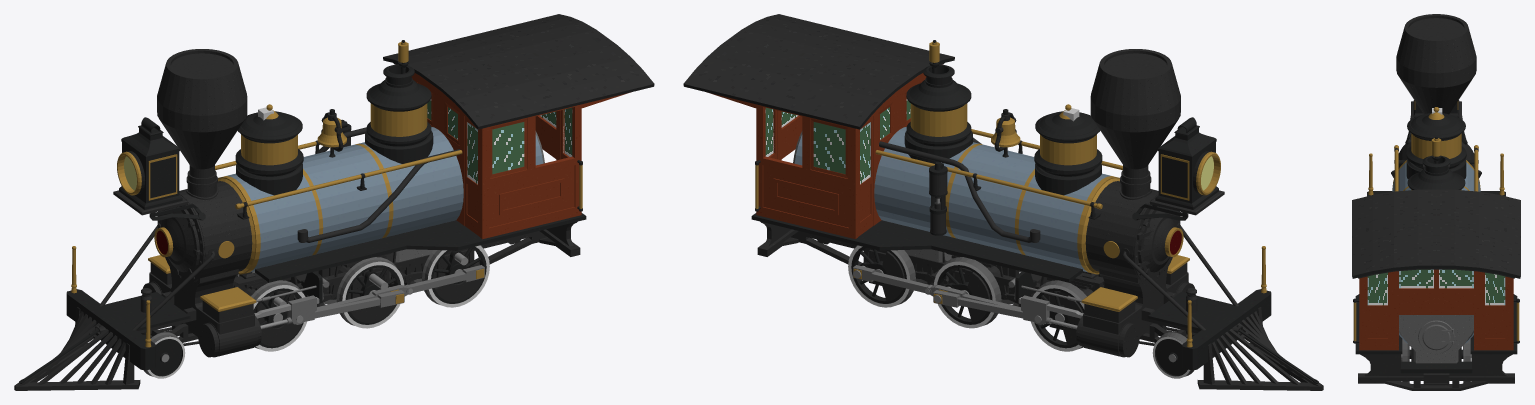
The model's file is cooke_mogul.obj.
The picture shows the model from 3 angles, left to right: view 1: azimuth 30°, elevation 25°; view 2: azimuth 150°, elevation 25°; view 3: azimuth 270°, elevation 25°; orthographic projection. The views are drawn at different scales.
Visible parts, largest first — view 1: CAB_Cube.011, SMOKEBOX_Mesh.004, FRAME_Cube.003, STEAM_CHEST_Cube.001, BOILER_SEGMENT_2_Mesh.005, FIREBOX_Mesh.003, BOILER_SEGMENT_1_Mesh.001, DOME_DOME.001_Mesh.007, DOME.001_DOME_Mesh.002, Headlamp_Mesh.006, WHEEL_DRIVER_2_Cylinder.009, WHEEL_DRIVER_3_Cylinder.002 (+10 smaller); view 2: CAB_Cube.011, SMOKEBOX_Mesh.004, FRAME_Cube.003, STEAM_CHEST_Cube.001, BOILER_SEGMENT_2_Mesh.005, BOILER_SEGMENT_1_Mesh.001, DOME_DOME.001_Mesh.007, FIREBOX_Mesh.003, DOME.001_DOME_Mesh.002, Headlamp_Mesh.006, WHEEL_DRIVER_2_Cylinder.009, Pipes&stuff_Cylinder.001 (+10 smaller); view 3: CAB_Cube.011, SMOKEBOX_Mesh.004, DOME.001_DOME_Mesh.002, FRAME_Cube.003, FIREBOX_Mesh.003, DOME_DOME.001_Mesh.007, Cylinder_Cylinder.004, BOILER_SEGMENT_1_Mesh.001, Headlamp_Mesh.006, railing_Mesh, WHEEL_DRIVER_3_Cylinder.002, WHISTLE_Cylinder.010.
Boxes of the visible parts, <box> form: CAB_Cube.011: <box>255,14,654,282</box>; SMOKEBOX_Mesh.004: <box>154,49,252,283</box>; FRAME_Cube.003: <box>14,225,580,390</box>; STEAM_CHEST_Cube.001: <box>142,255,329,357</box>; BOILER_SEGMENT_2_Mesh.005: <box>302,140,393,254</box>; FIREBOX_Mesh.003: <box>359,127,544,262</box>; BOILER_SEGMENT_1_Mesh.001: <box>218,169,323,274</box>; DOME_DOME.001_Mesh.007: <box>365,64,433,163</box>; DOME.001_DOME_Mesh.002: <box>235,104,303,195</box>; Headlamp_Mesh.006: <box>113,117,205,220</box>; WHEEL_DRIVER_2_Cylinder.009: <box>316,257,404,328</box>; WHEEL_DRIVER_3_Cylinder.002: <box>411,245,489,307</box>; CAB_Cube.011: <box>683,14,1082,282</box>; SMOKEBOX_Mesh.004: <box>1085,49,1183,283</box>; FRAME_Cube.003: <box>757,225,1323,390</box>; STEAM_CHEST_Cube.001: <box>1008,255,1195,357</box>; BOILER_SEGMENT_2_Mesh.005: <box>945,140,1035,254</box>; BOILER_SEGMENT_1_Mesh.001: <box>1014,169,1119,274</box>; DOME_DOME.001_Mesh.007: <box>904,64,972,163</box>; FIREBOX_Mesh.003: <box>793,127,978,262</box>; DOME.001_DOME_Mesh.002: <box>1034,104,1102,195</box>; Headlamp_Mesh.006: <box>1132,117,1224,220</box>; WHEEL_DRIVER_2_Cylinder.009: <box>933,257,1014,328</box>; Pipes&stuff_Cylinder.001: <box>879,137,1037,242</box>; CAB_Cube.011: <box>1352,189,1520,376</box>; SMOKEBOX_Mesh.004: <box>1394,14,1478,168</box>; DOME.001_DOME_Mesh.002: <box>1406,107,1466,178</box>; FRAME_Cube.003: <box>1358,153,1514,390</box>; FIREBOX_Mesh.003: <box>1399,315,1473,363</box>; DOME_DOME.001_Mesh.007: <box>1407,155,1465,190</box>; Cylinder_Cylinder.004: <box>1418,320,1454,353</box>; BOILER_SEGMENT_1_Mesh.001: <box>1392,160,1480,191</box>; Headlamp_Mesh.006: <box>1405,100,1467,144</box>; railing_Mesh: <box>1394,147,1478,191</box>; WHEEL_DRIVER_3_Cylinder.002: <box>1401,339,1471,383</box>; WHISTLE_Cylinder.010: <box>1431,136,1441,163</box>.
Bounding box in the file's own units: 9.47 × 4.4 × 2.65.
Materials: 15 (14 with a texture image).
